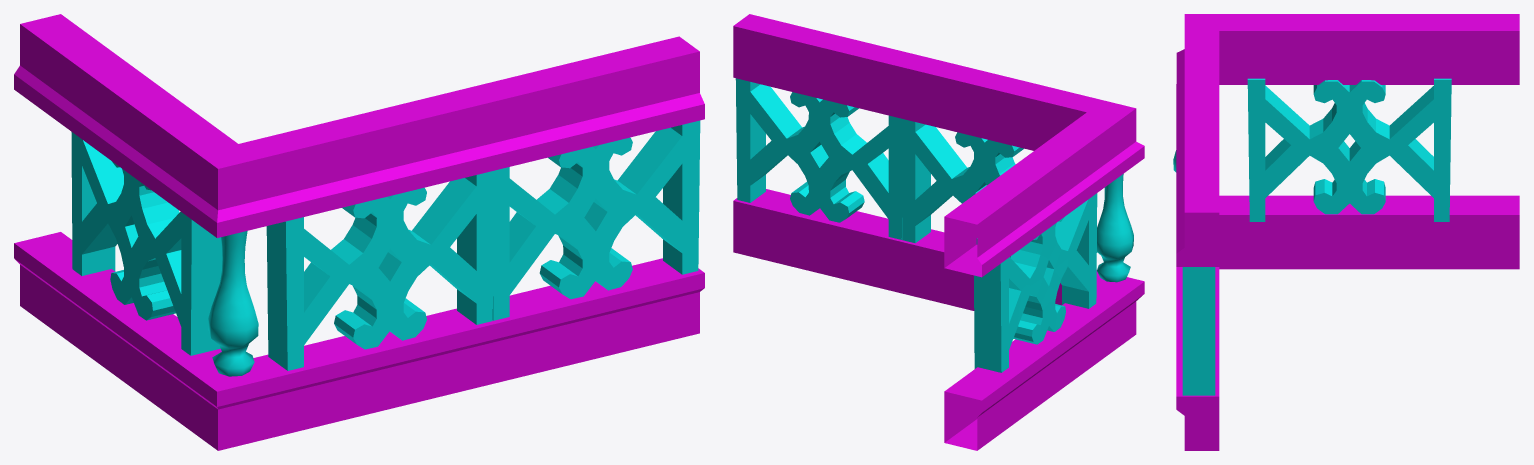
The model's file is balkuni_left_01.fbx.
3 renders of one model, left to right at view 1: azimuth 30°, elevation 25°; view 2: azimuth 150°, elevation 25°; view 3: azimuth 270°, elevation 25°, orthographic. The views are drawn at different scales.
Parts seen in each view (by area): view 1: polySurface192, polySurface193, polySurface188, polySurface189, polySurface191, polySurface190; view 2: polySurface192, polySurface193, polySurface189, polySurface191, polySurface188, polySurface190; view 3: polySurface192, polySurface193, polySurface191, polySurface189.
Part boxes in pixels (box(x1,y1,x2,y2)): polySurface192: box(14, 14, 704, 237); polySurface193: box(14, 232, 704, 450); polySurface188: box(266, 170, 494, 370); polySurface189: box(491, 120, 700, 320); polySurface191: box(71, 132, 222, 355); polySurface190: box(208, 231, 258, 376); polySurface192: box(733, 14, 1144, 277); polySurface193: box(733, 189, 1144, 450); polySurface189: box(735, 78, 903, 239); polySurface191: box(974, 193, 1097, 372); polySurface188: box(901, 118, 1023, 257); polySurface190: box(1097, 174, 1133, 282); polySurface192: box(1176, 14, 1519, 266); polySurface193: box(1176, 195, 1519, 450); polySurface191: box(1247, 78, 1451, 221); polySurface189: box(1182, 267, 1215, 395).
Size of the model in its own units: 277 by 153 by 202.
